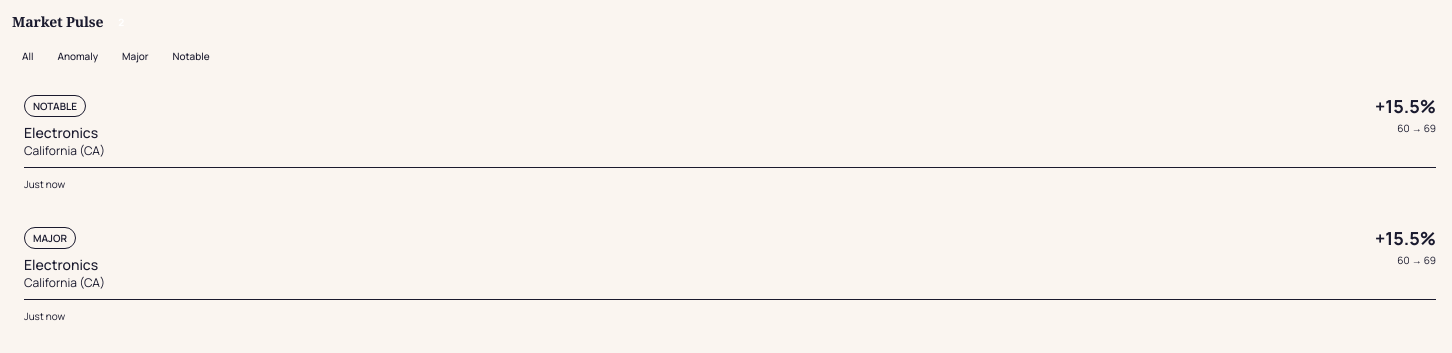
Test case: PulseFeed › shows all non-minor when All tab clicked after filtering
Click the button with test id "tab-major": (135, 56) [112, 44, 159, 68]
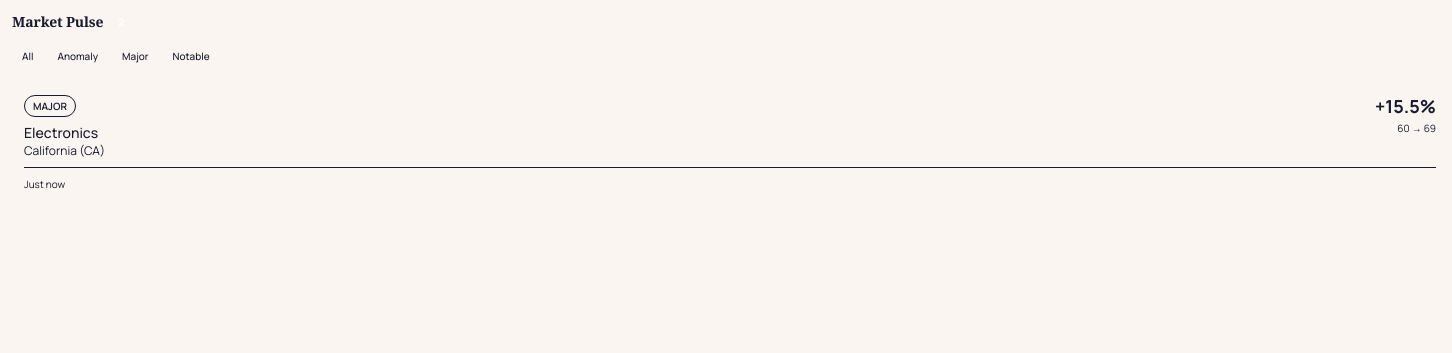
Result: the number of elements with test id "pulse-event-card" is 1 at [12, 80, 1448, 204]
Click the button with test id "tab-all": (28, 56) [12, 44, 44, 68]
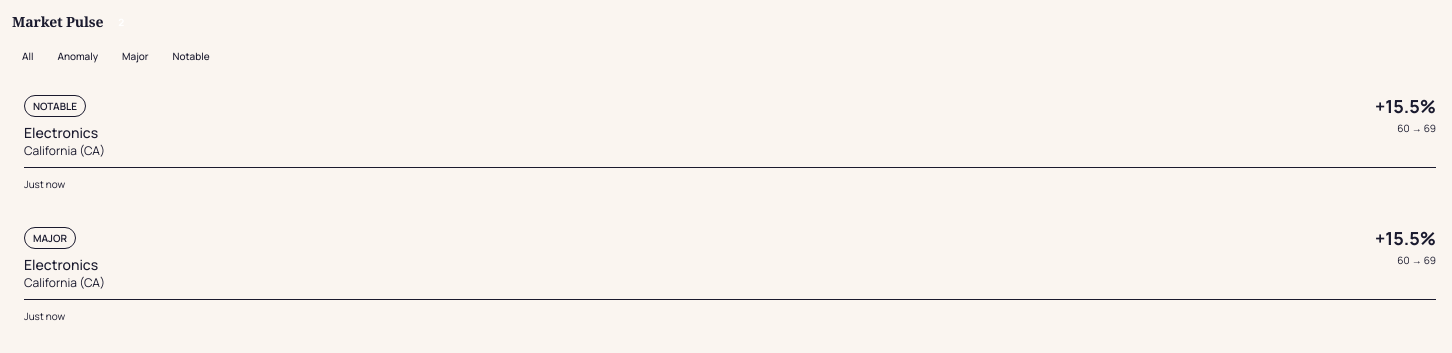
Result: the number of elements with test id "pulse-event-card" is 2 at [12, 80, 1448, 204]; [12, 212, 1448, 336]
